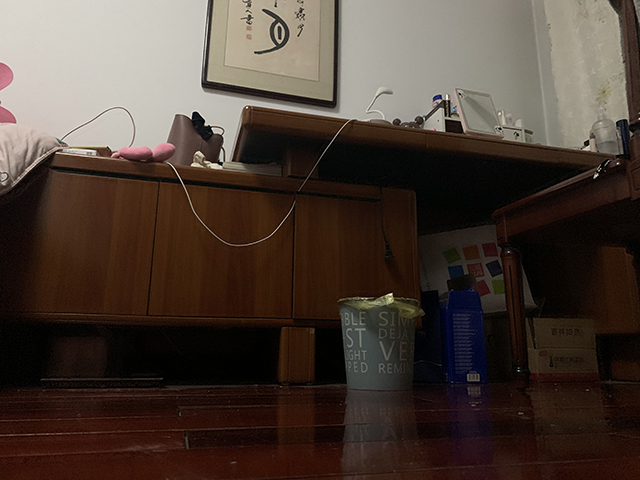stool: (491, 1, 638, 379)
table: (1, 103, 640, 390)
trashcan: (336, 293, 426, 388)
